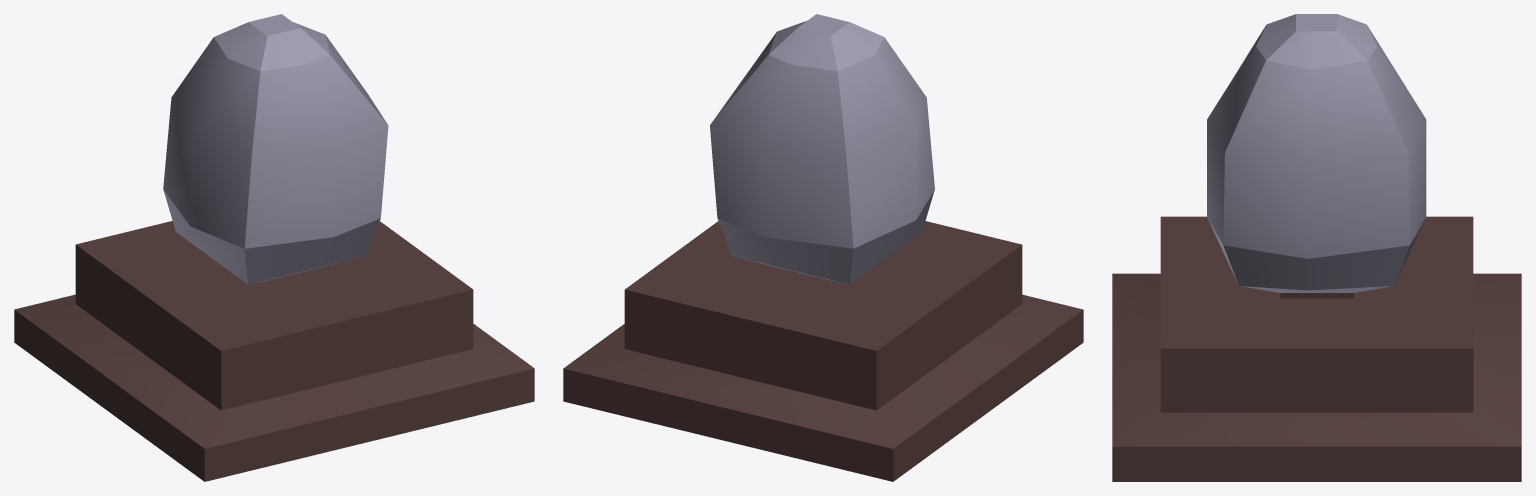
Rendered from 3Dobject_WetRock.fbx.
3 views of the same model, side by side, from view 1: azimuth 30°, elevation 25°; view 2: azimuth 150°, elevation 25°; view 3: azimuth 270°, elevation 25° (orthographic). The views are drawn at different scales.
Visible parts, largest first — view 1: pedestal1, wetrock; view 2: pedestal1, wetrock; view 3: pedestal1, wetrock.
Part boxes in pixels (box(x1,y1,x2,y2)): pedestal1: box(14, 221, 534, 481); wetrock: box(163, 14, 388, 284); pedestal1: box(563, 221, 1083, 481); wetrock: box(710, 14, 934, 284); pedestal1: box(1112, 216, 1521, 481); wetrock: box(1207, 14, 1426, 292).
Bounding box in the file's own units: 1.01 × 1.02 × 1.01.
